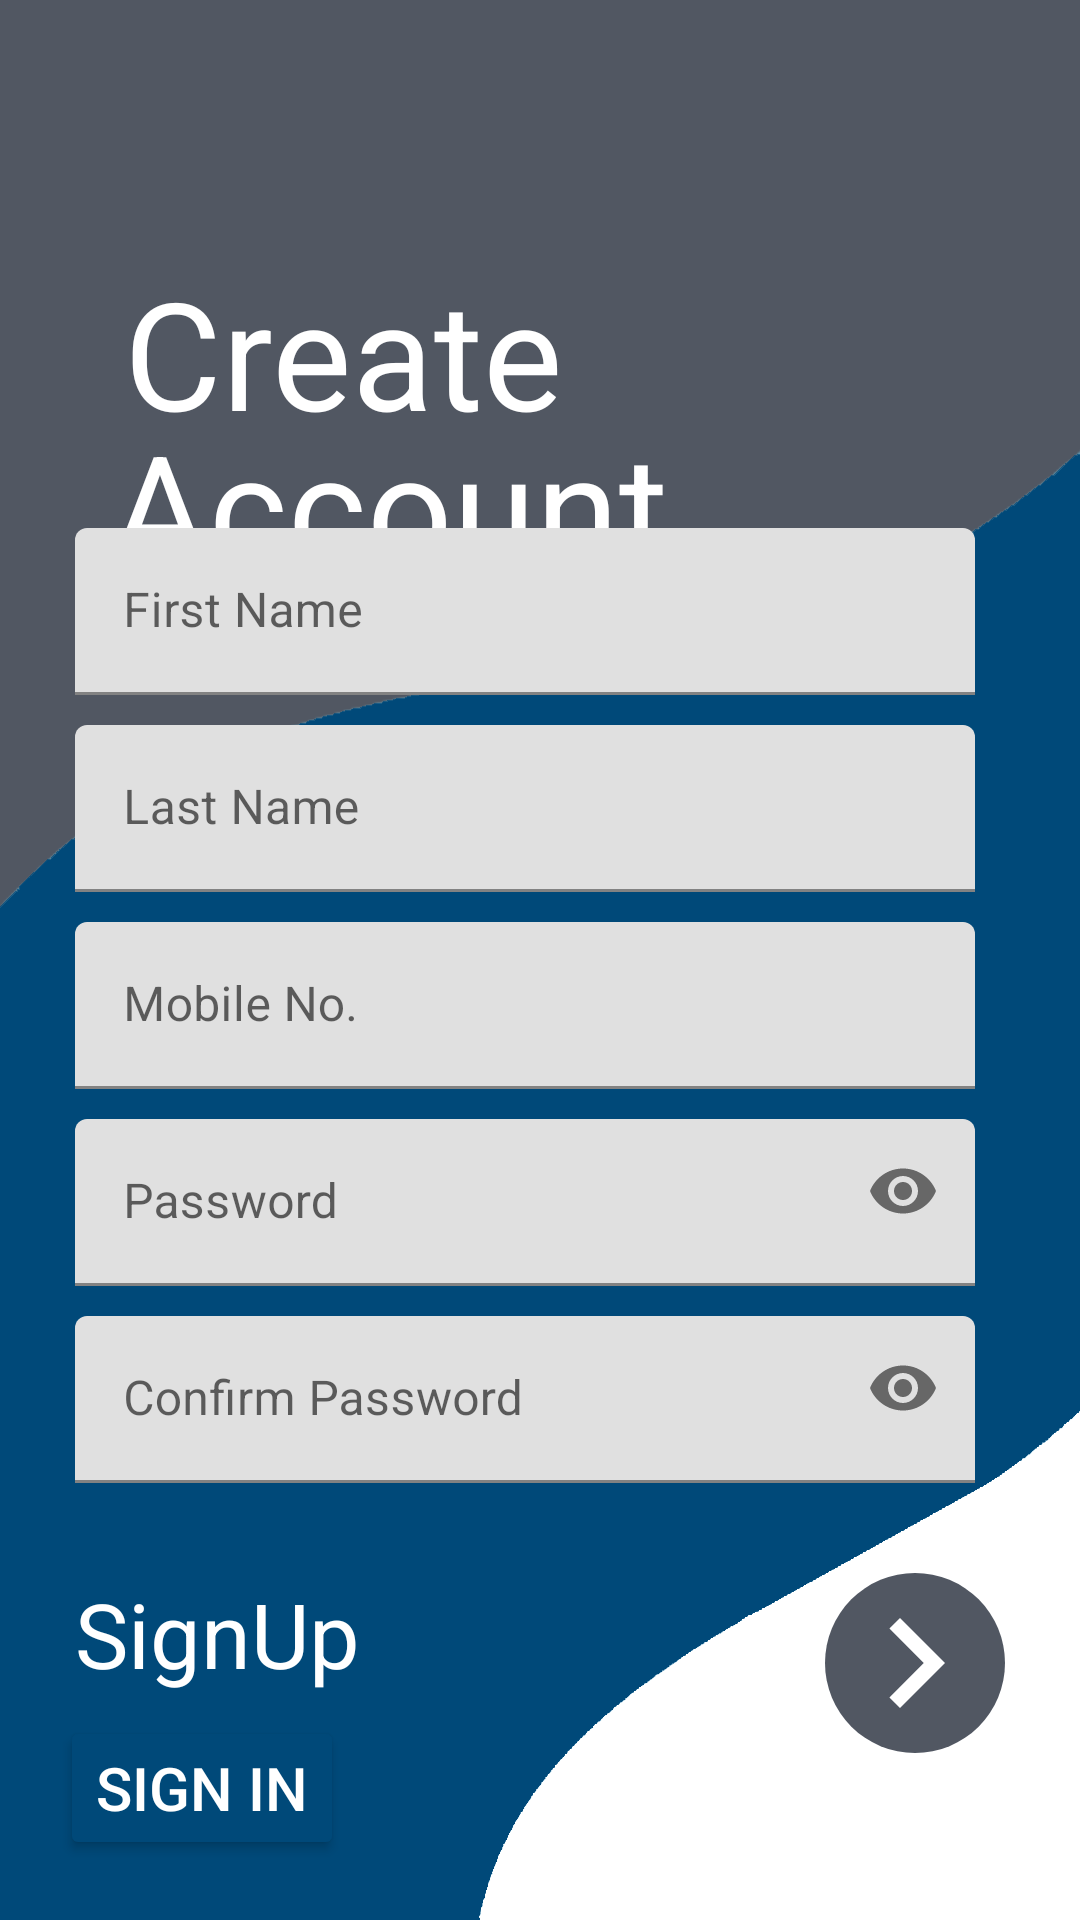

Named icons in this screenshot (1080px×1920px) and their centers, [x,y]:
navigate next: [915,1663]
